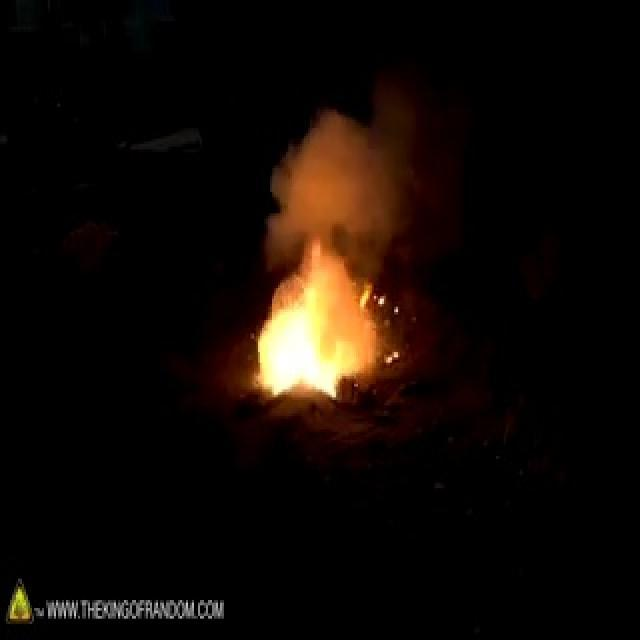Fire: (257, 269, 371, 416)
